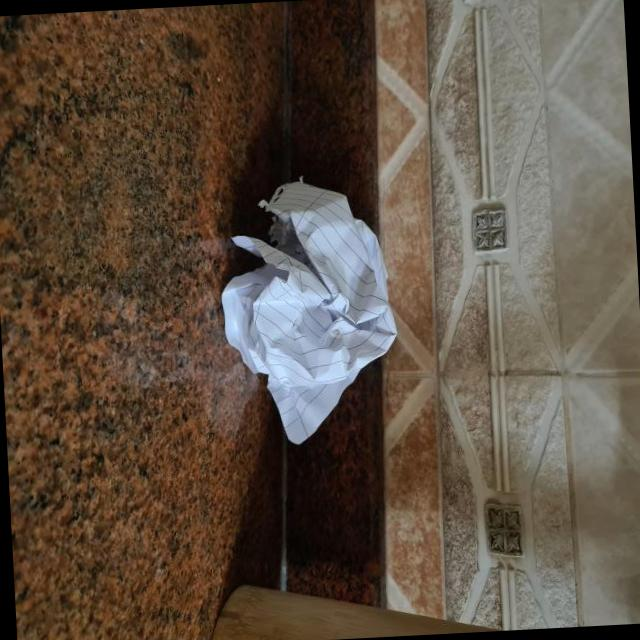cardboard paper: (223, 184, 397, 445)
